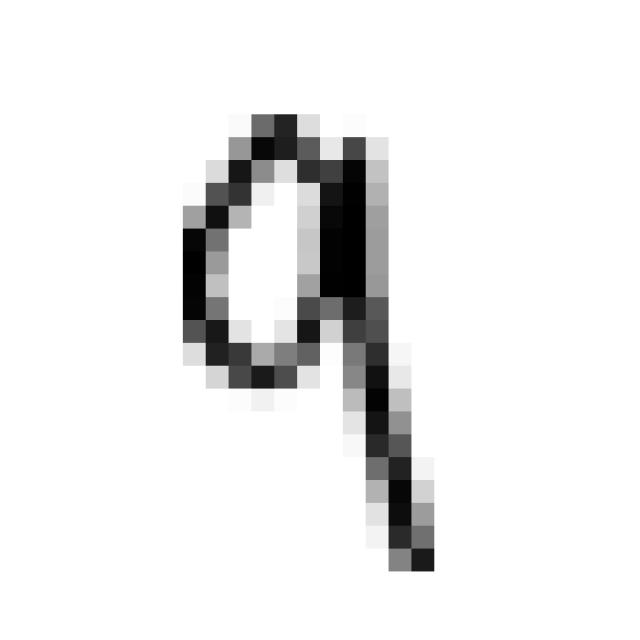9 -nine-: (153, 91, 446, 595)
